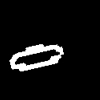chain: (10, 44, 63, 70)
